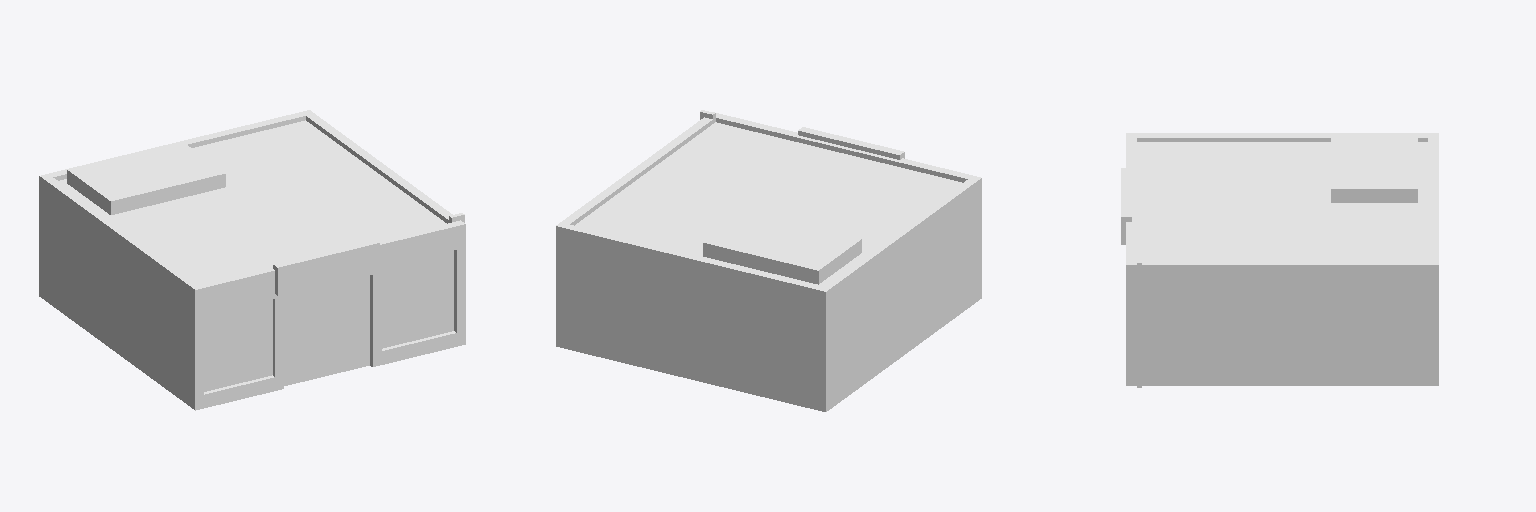
File: sklep1.obj
The picture shows the model from 3 angles: view 1: azimuth 30°, elevation 25°; view 2: azimuth 150°, elevation 25°; view 3: azimuth 270°, elevation 25°; orthographic projection.
Parts seen in each view (by area): view 1: object 1; view 2: object 1; view 3: object 1.
Part boxes in pixels (bbox=[...]): object 1: bbox=[39, 110, 465, 410]; object 1: bbox=[556, 110, 981, 411]; object 1: bbox=[1121, 133, 1438, 387].
Bounding box in the file's own units: 6.2 × 2.8 × 6.2.